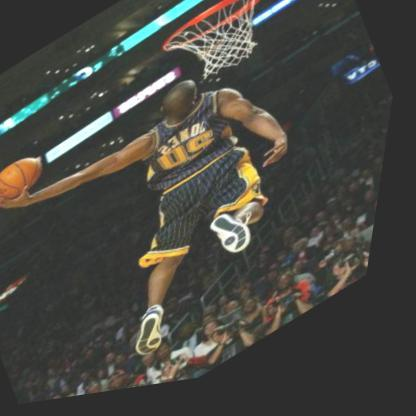basketball: (0, 149, 56, 212)
rim: (154, 0, 284, 105)
